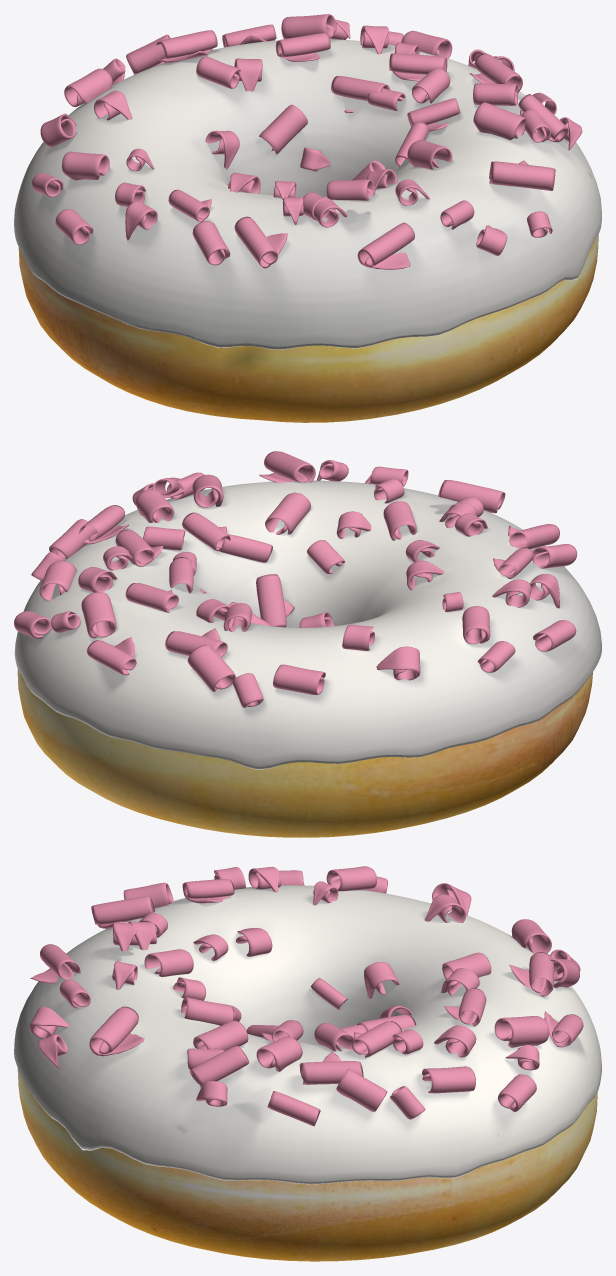
Rendered from white strawberry curls.glb.
3 views of the same model, one above another, from view 1: azimuth 30°, elevation 25°; view 2: azimuth 150°, elevation 25°; view 3: azimuth 270°, elevation 25° (orthographic). The views are drawn at different scales.
Parts seen in each view (by area): view 1: white, coffee.001, choco & straw curls, Torus; view 2: white, coffee.001, choco & straw curls, Torus; view 3: white, coffee.001, choco & straw curls, Torus.
Boxes of the visible parts, box(x1,y1,x2,y2) form: white: box(14, 39, 601, 349); coffee.001: box(14, 39, 601, 349); choco & straw curls: box(32, 14, 582, 269); Torus: box(18, 234, 598, 422); white: box(15, 481, 600, 769); coffee.001: box(14, 480, 601, 769); choco & straw curls: box(14, 451, 577, 707); Torus: box(17, 668, 592, 837); white: box(14, 885, 601, 1184); coffee.001: box(14, 885, 601, 1183); choco & straw curls: box(29, 866, 583, 1126); Torus: box(17, 1068, 597, 1261).
Size of the model in its own units: 0.1989 by 0.0804 by 0.1972.
Materials: 4 (2 with a texture image).
